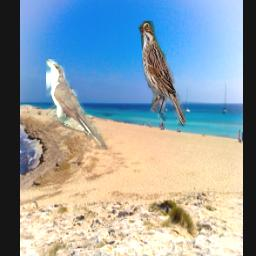Cuckoo: (47, 59, 109, 149)
Sparrow: (138, 22, 185, 127)
